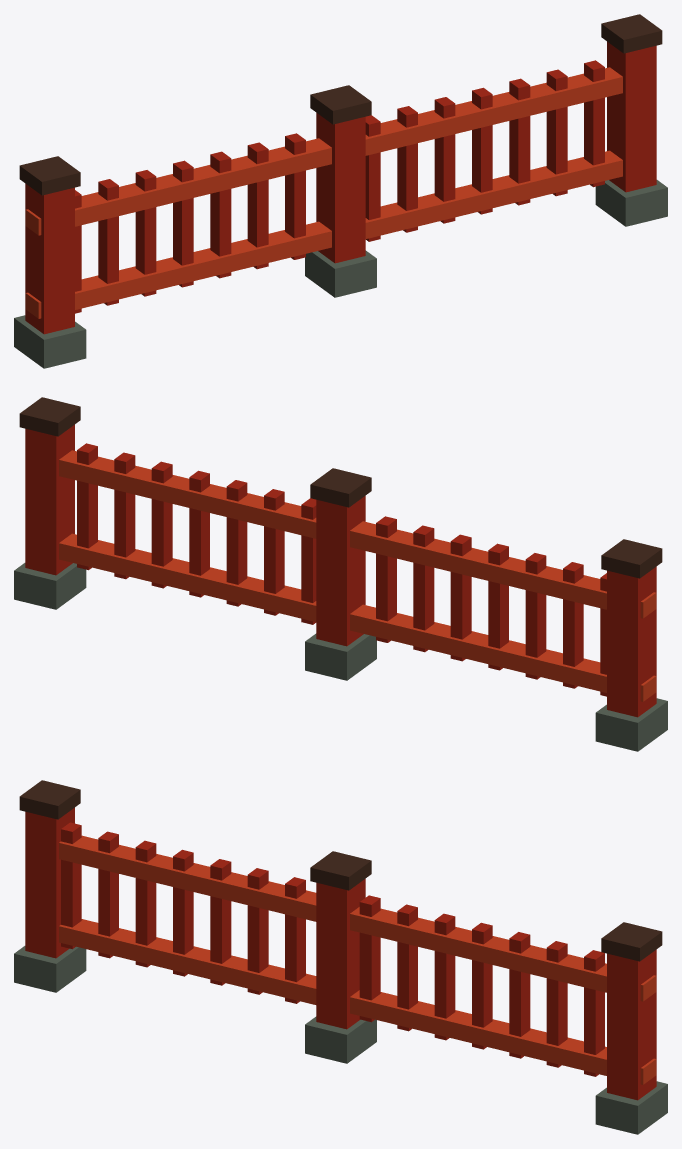
The model's file is shrine-boundary-fence.obj.
3 views of the same model, one above another, from view 1: azimuth 30°, elevation 25°; view 2: azimuth 150°, elevation 25°; view 3: azimuth 330°, elevation 25° (orthographic).
Size of the model in its own units: 3.84 by 1.08 by 0.32.
